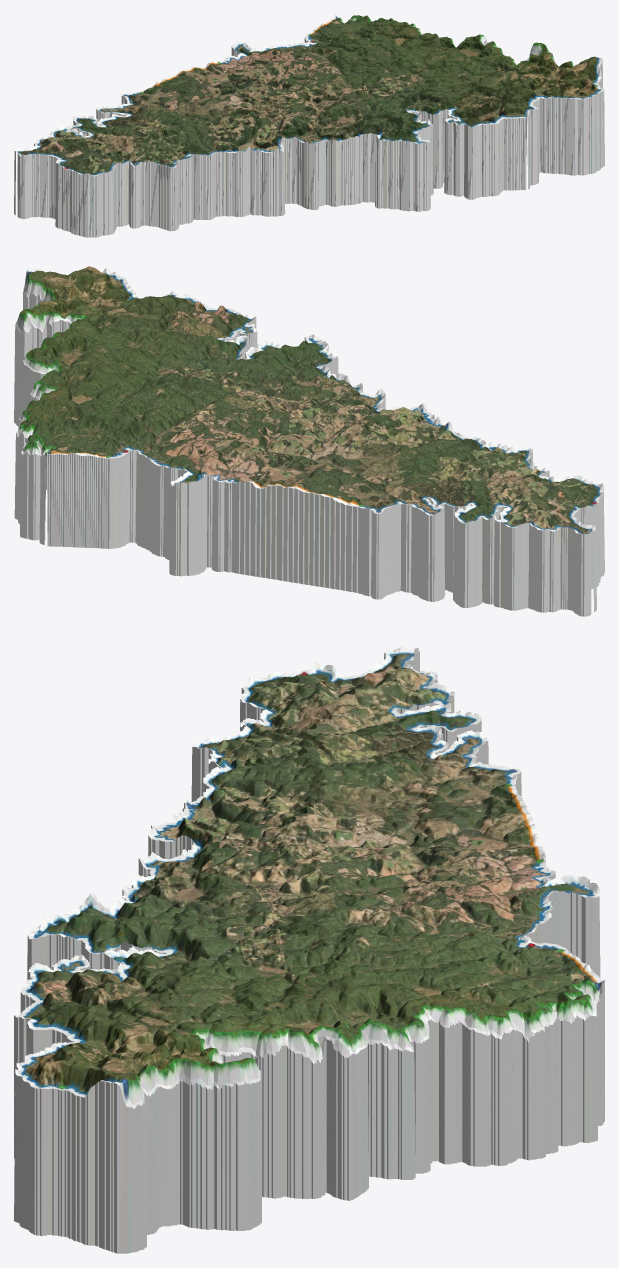
The picture shows the model from 3 angles, top to bottom: view 1: azimuth 30°, elevation 25°; view 2: azimuth 150°, elevation 25°; view 3: azimuth 270°, elevation 25°; orthographic projection. The views are drawn at different scales.
Size of the model in its own units: 1 by 0.1639 by 0.5162.
Materials: 1 (1 with a texture image).
